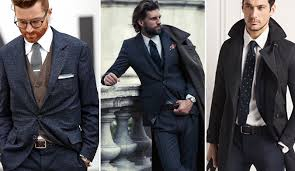F_M_suit jacket: (1, 24, 99, 169), (105, 32, 199, 122)
F_belt: (230, 122, 276, 138), (24, 137, 57, 151)
F_dress pants: (150, 109, 201, 171), (217, 132, 286, 171)
